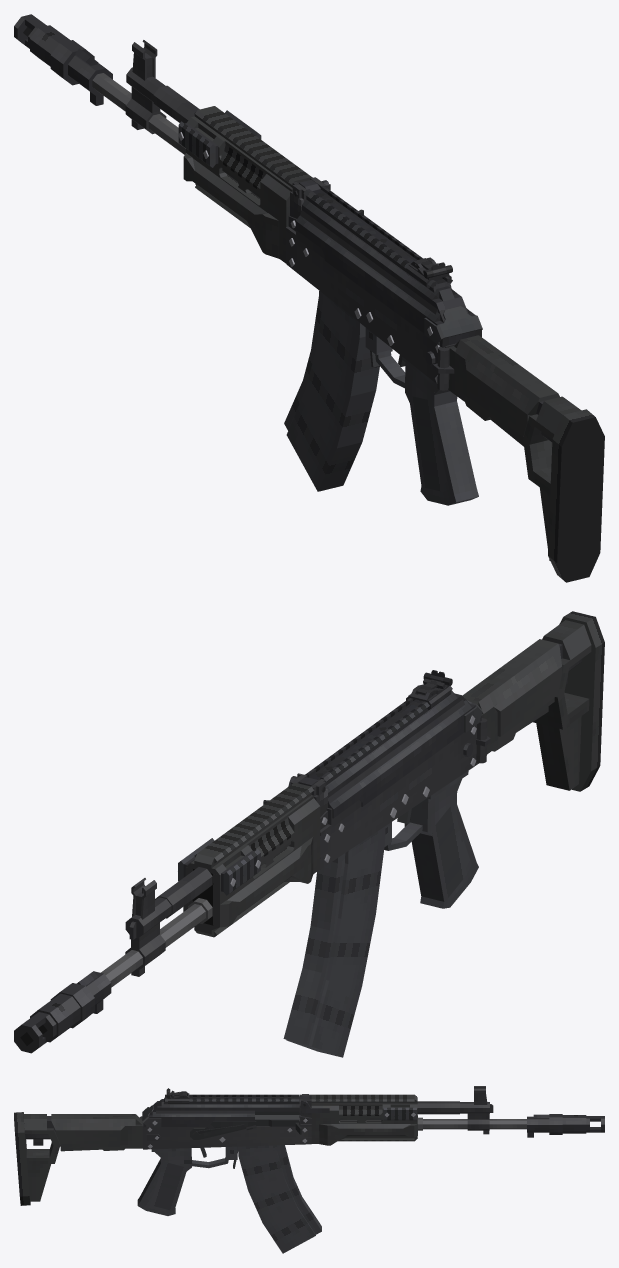
3 views of the same model, one above another, from view 1: azimuth 30°, elevation 25°; view 2: azimuth 150°, elevation 25°; view 3: azimuth 270°, elevation 25° (orthographic). The views are drawn at different scales.
Parts seen in each view (by area): view 1: cube (×23), grip (×3); view 2: cube (×34), grip (×2); view 3: cube (×35), grip (×4).
Boxes of the visible parts, <box> form: cube (×23): <box>186,106,604,582</box>; grip (×3): <box>405,362,476,495</box>; cube (×34): <box>105,625,604,1057</box>; grip (×2): <box>404,782,466,902</box>; cube (×35): <box>15,1094,526,1253</box>; grip (×4): <box>137,1150,191,1211</box>.
Size of the model in its own units: 0.7493 by 2.87 by 9.43.
Materials: 1 (1 with a texture image).
